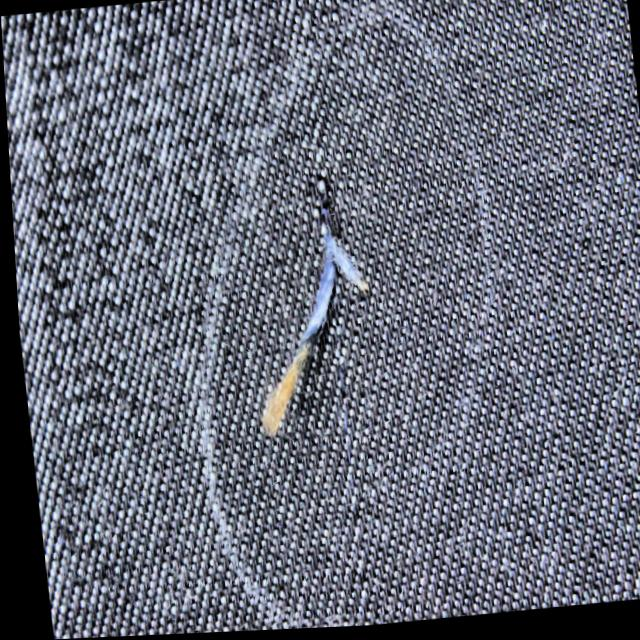Stitch: (211, 180, 400, 492)
